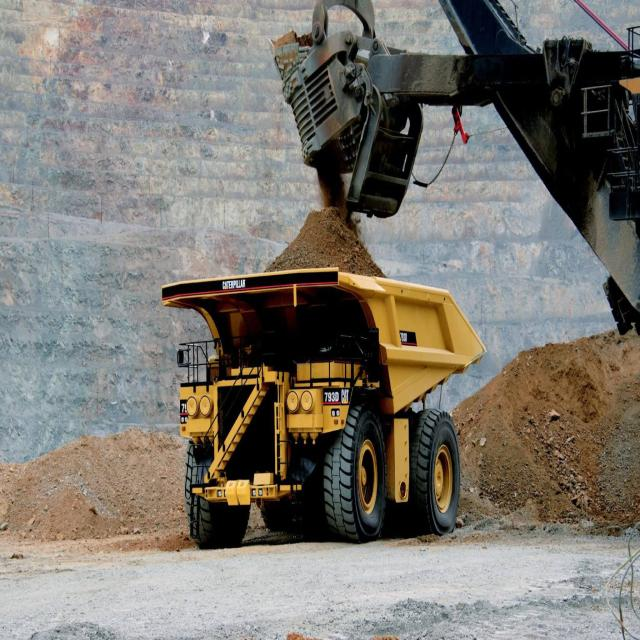dump_truck: (168, 219, 507, 553)
